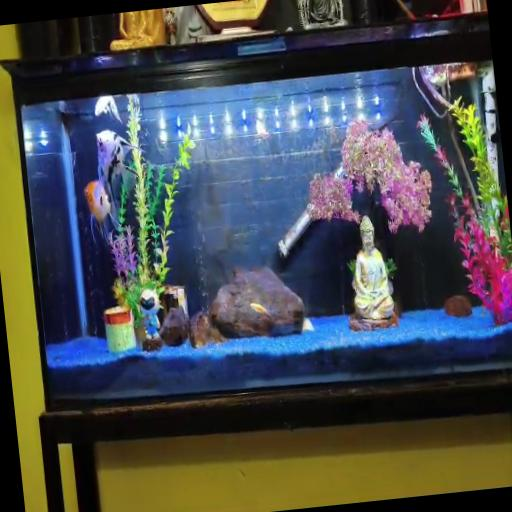Fish: (96, 130, 140, 205), (84, 180, 117, 244), (95, 96, 121, 121), (250, 303, 268, 313), (303, 318, 314, 331)
